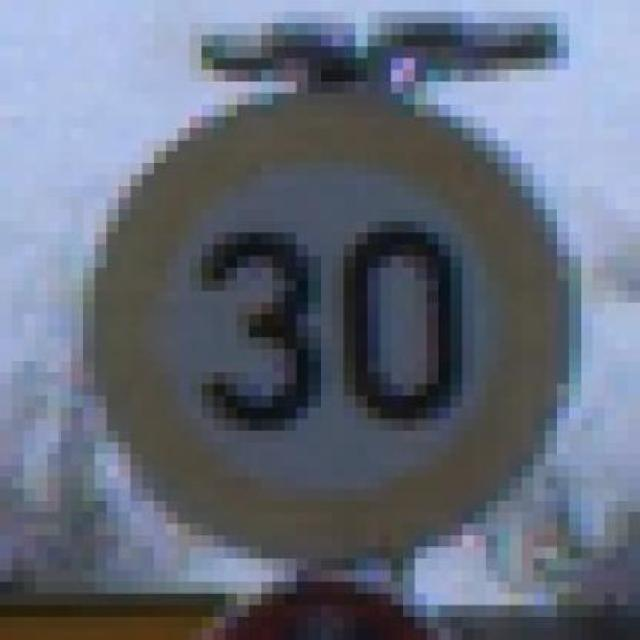Speed Limit 30 KMPh: (94, 58, 568, 594)
